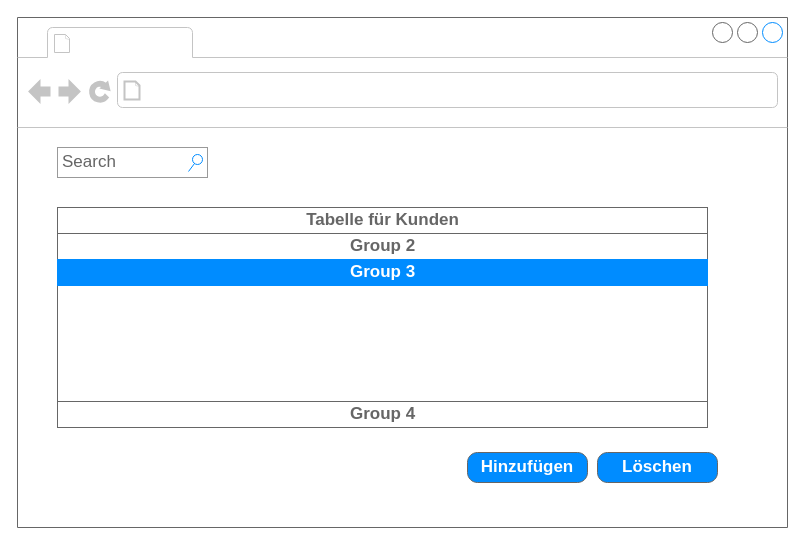
The diagram is 805 pixels wide and 545 high, and some of its shapes have lost their labels. Here are the shapes that lost their labels. From the top down, the centre of each, then its label:
At (137,42): "KundenUebersicht".
At (272,90): "https://api/ArtikelUebersicht".
